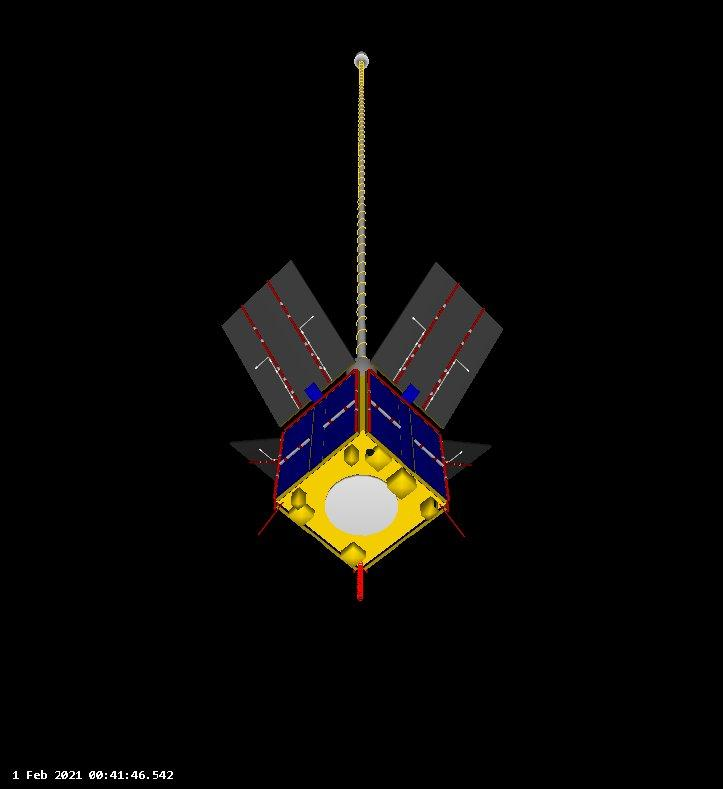antenna: (352, 48, 371, 369)
body: (270, 366, 453, 576)
solar: (275, 370, 357, 500), (368, 371, 448, 502)
